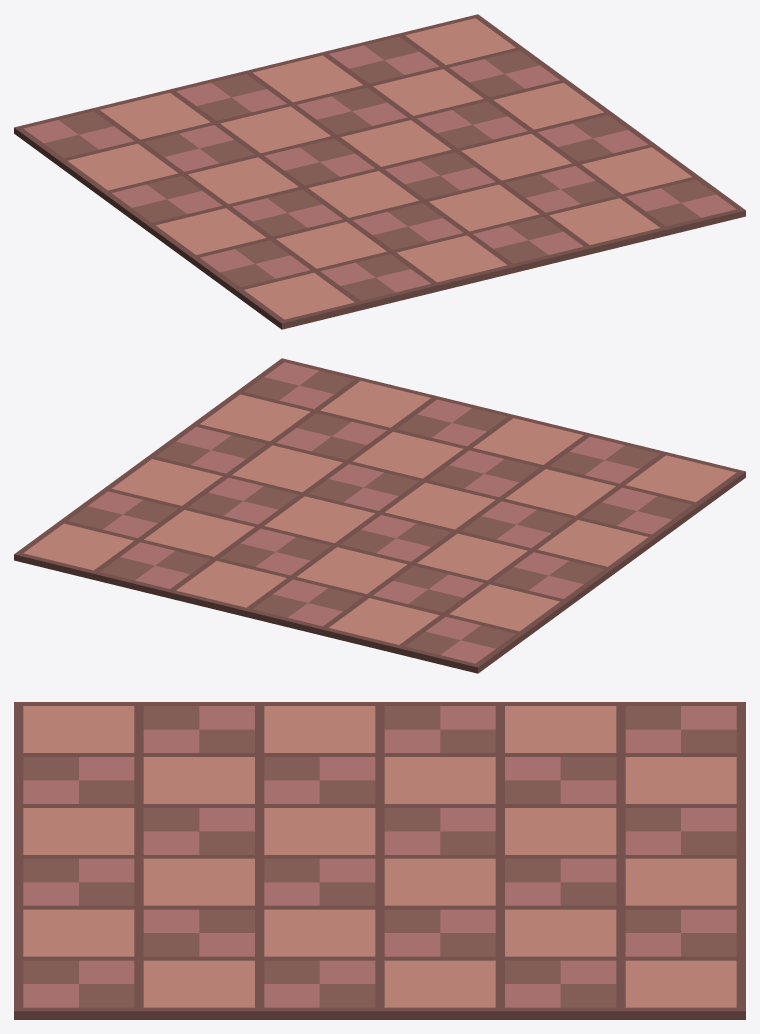
File: Floor.obj
The picture shows the model from 3 angles, top to bottom: view 1: azimuth 30°, elevation 25°; view 2: azimuth 150°, elevation 25°; view 3: azimuth 270°, elevation 25°; orthographic projection. The views are drawn at different scales.
Bounding box in the file's own units: 15.8 × 0.2 × 15.8.
Materials: 1 (1 with a texture image).
